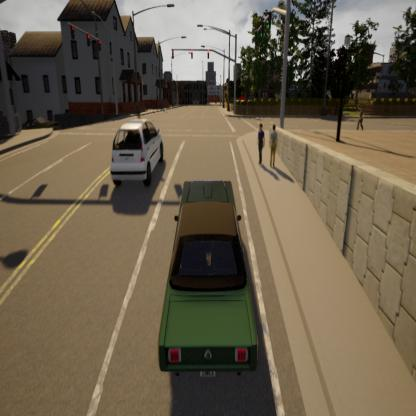Cars: (155, 171, 266, 395), (99, 104, 172, 200), (20, 115, 62, 134)
Pedestrian: (255, 120, 268, 170), (268, 121, 280, 170), (357, 104, 366, 135)
